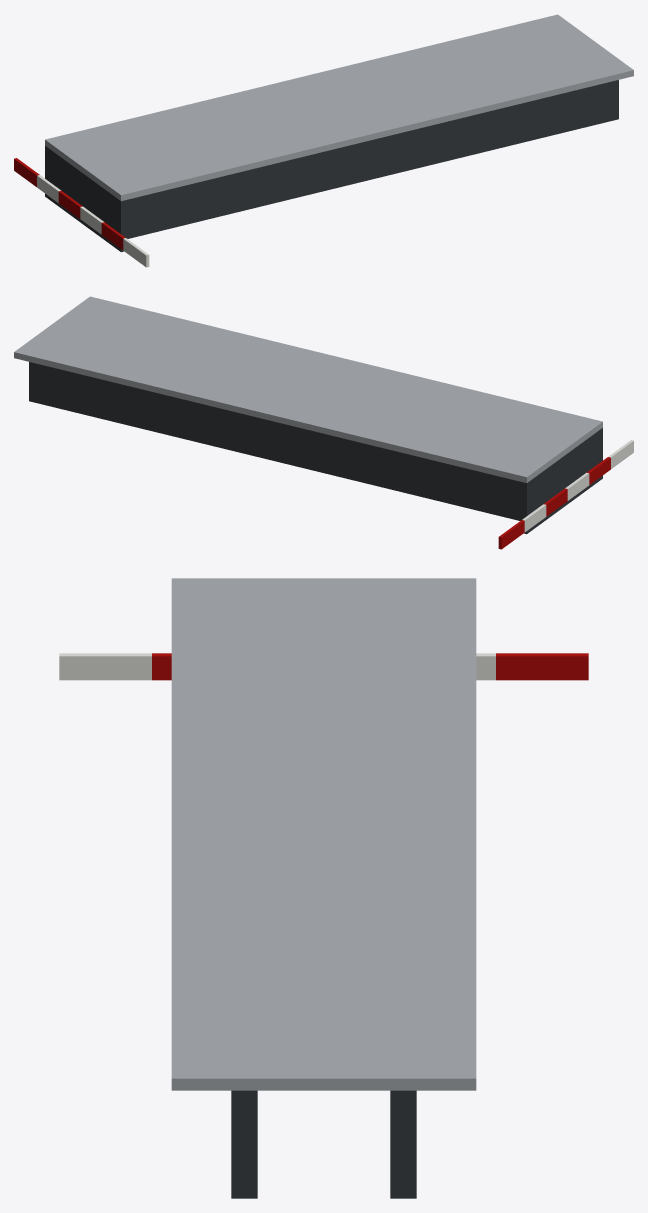
File: bucket_truck_subframe.glb
3 renders of one model, top to bottom at view 1: azimuth 30°, elevation 25°; view 2: azimuth 150°, elevation 25°; view 3: azimuth 270°, elevation 25°, orthographic. The views are drawn at different scales.
Visible parts, largest first — view 1: body:compound; view 2: body:compound; view 3: body:compound.
Part boxes in pixels (<box>): body:compound: <box>14,14,633,267</box>; body:compound: <box>14,296,633,549</box>; body:compound: <box>59,578,588,1198</box>.
Bounding box in the file's own units: 5.62 × 0.625 × 2.5.
